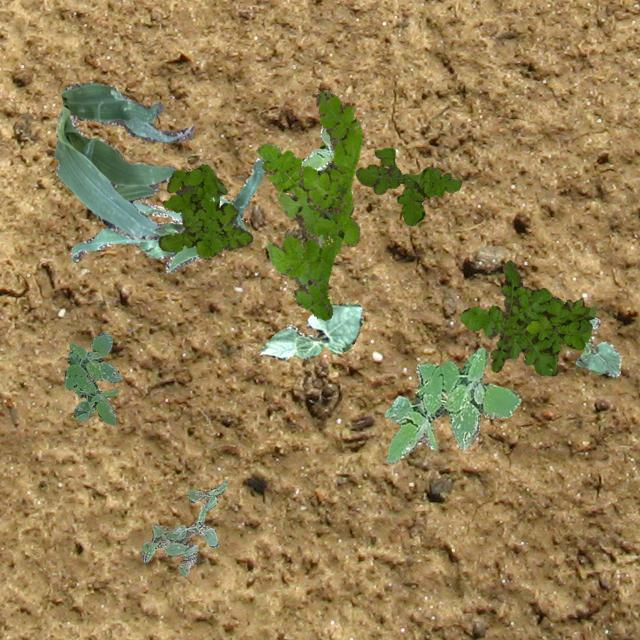crop: (70, 156, 262, 272), (52, 80, 192, 238), (258, 302, 362, 358), (574, 316, 620, 376)
weed: (266, 88, 362, 320), (384, 346, 520, 464), (460, 260, 596, 374), (255, 142, 358, 245), (158, 162, 252, 258), (354, 146, 460, 224), (140, 480, 226, 574), (64, 330, 122, 424), (300, 126, 334, 170), (152, 226, 184, 254)
